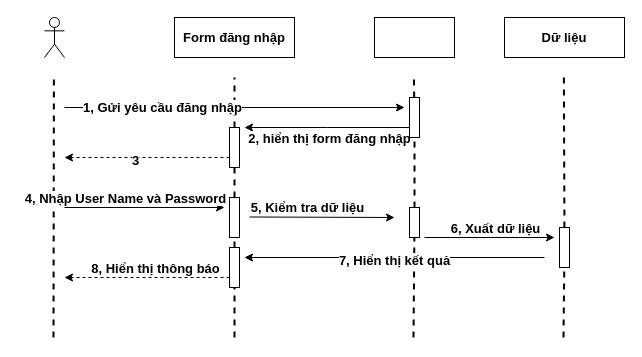
This 642x357 diagram has some shape labels left out. The shapes that lost their labels are listed below. From the top down, each one's box as (x1, y1, x2, y2) in pixels, then its label:
(44, 16, 64, 58): Người dùng
(374, 16, 454, 58): Đăng nhập
